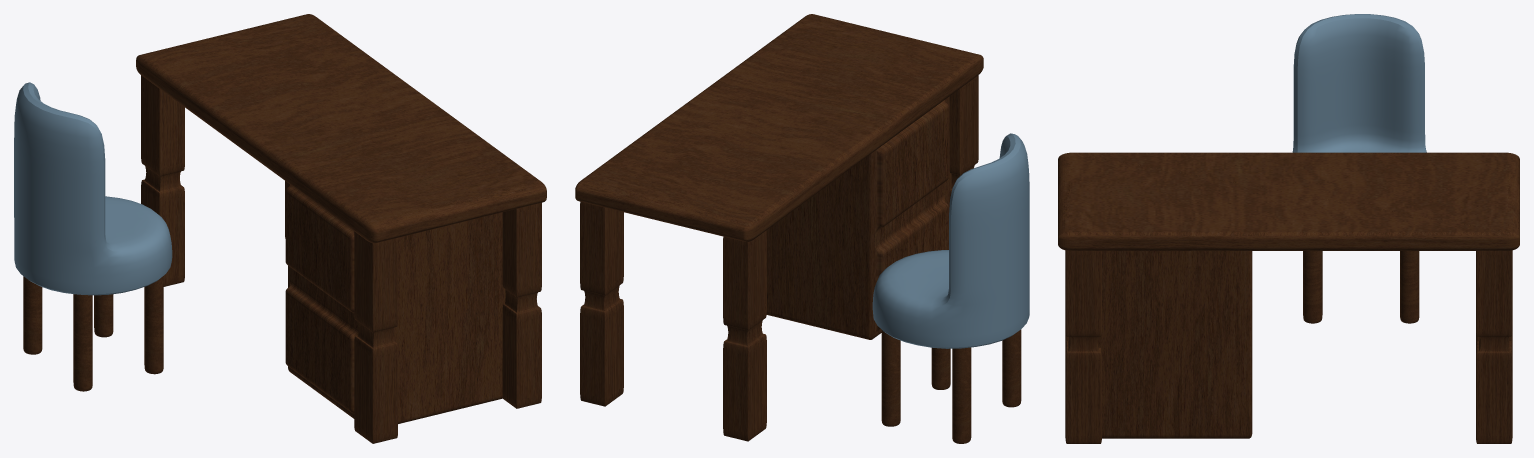
The model's file is Desk_Two.fbx.
3 views of the same model, side by side, from view 1: azimuth 30°, elevation 25°; view 2: azimuth 150°, elevation 25°; view 3: azimuth 270°, elevation 25° (orthographic). The views are drawn at different scales.
Parts seen in each view (by area): view 1: Cube.020, Cube.023, Cube.021, Circle.001, Cylinder.023; view 2: Cube.020, Cube.023, Circle.001, Cube.021, Cylinder.023; view 3: Cube.020, Cube.023, Circle.001, Cube.021, Cylinder.023.
Part boxes in pixels (x1,y1,x2,y2): Cube.020: [136, 14, 546, 243]; Cube.023: [285, 183, 505, 423]; Cube.021: [141, 75, 541, 443]; Circle.001: [14, 82, 172, 295]; Cylinder.023: [23, 276, 163, 391]; Cube.020: [575, 14, 983, 241]; Cube.023: [766, 96, 951, 339]; Circle.001: [872, 133, 1029, 348]; Cube.021: [580, 75, 978, 441]; Cylinder.023: [881, 329, 1021, 443]; Cube.020: [1058, 152, 1519, 250]; Cube.023: [1098, 251, 1252, 438]; Circle.001: [1292, 14, 1426, 152]; Cube.021: [1065, 250, 1512, 443]; Cylinder.023: [1303, 251, 1419, 323].
Size of the model in its own units: 3.1 by 3.5 by 2.22.
2 materials, 1 textured.
